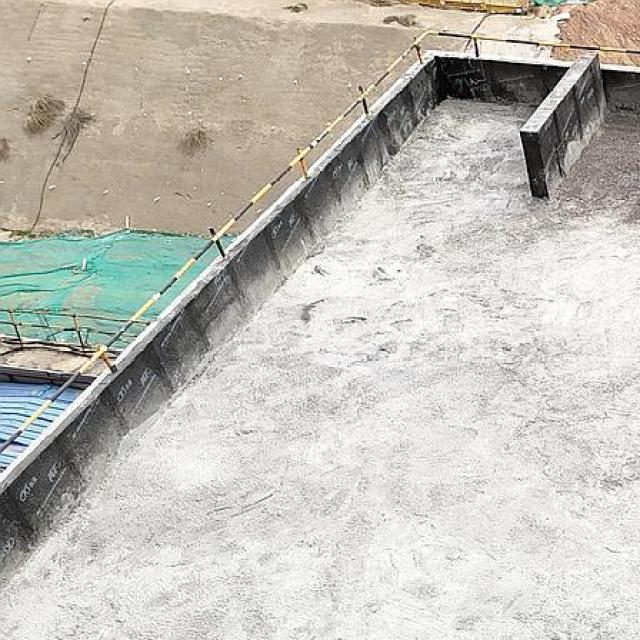edge_guardrail: (0, 26, 640, 453)
